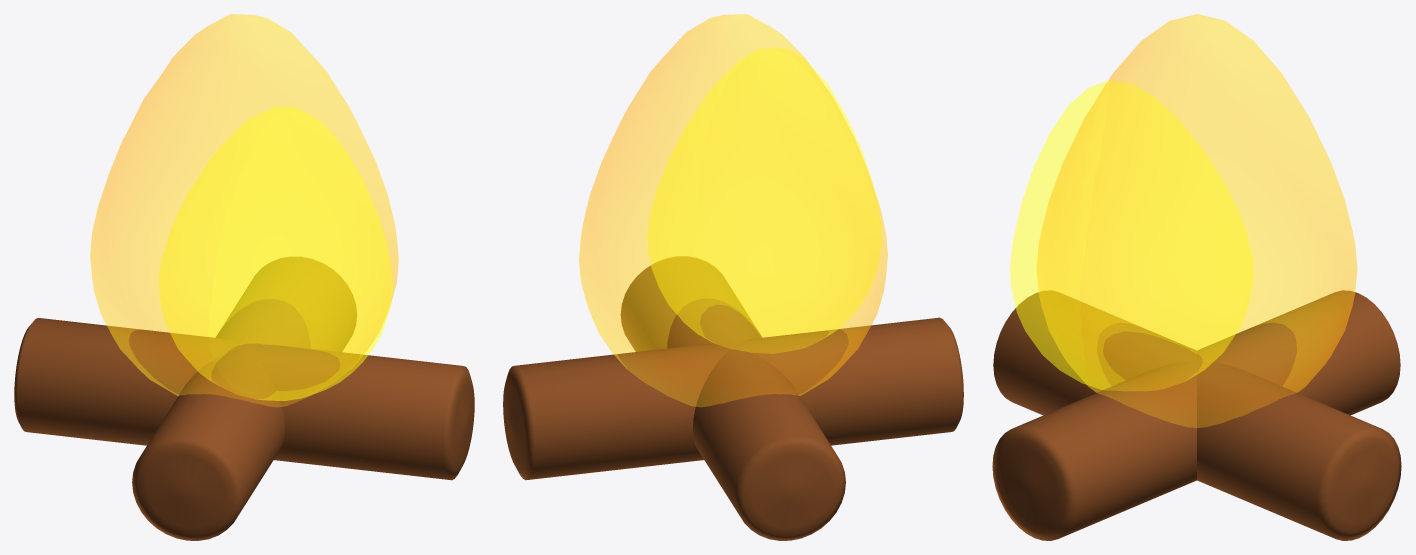
File: campfire.glb
The picture shows the model from 3 angles, left to right: view 1: azimuth 30°, elevation 25°; view 2: azimuth 150°, elevation 25°; view 3: azimuth 270°, elevation 25°; orthographic projection. The views are drawn at different scales.
Parts seen in each view (by area): view 1: Roundcube.001, Roundcube.002, Cylinder, Cylinder.001; view 2: Roundcube.001, Roundcube.002, Cylinder.001, Cylinder; view 3: Roundcube.001, Roundcube.002, Cylinder, Cylinder.001.
Boxes of the visible parts, bbox=[...] form: Roundcube.001: bbox=[90, 14, 398, 407]; Roundcube.002: bbox=[159, 107, 392, 400]; Cylinder: bbox=[14, 318, 474, 480]; Cylinder.001: bbox=[132, 257, 356, 540]; Roundcube.001: bbox=[579, 14, 887, 406]; Roundcube.002: bbox=[648, 48, 881, 353]; Cylinder.001: bbox=[503, 317, 963, 480]; Cylinder: bbox=[620, 256, 845, 540]; Roundcube.001: bbox=[1036, 14, 1357, 427]; Roundcube.002: bbox=[1010, 80, 1252, 390]; Cylinder: bbox=[992, 290, 1400, 540]; Cylinder.001: bbox=[993, 290, 1401, 540].
Size of what is drawn, in the model's own units: 2.54 by 3.1 by 2.55.
